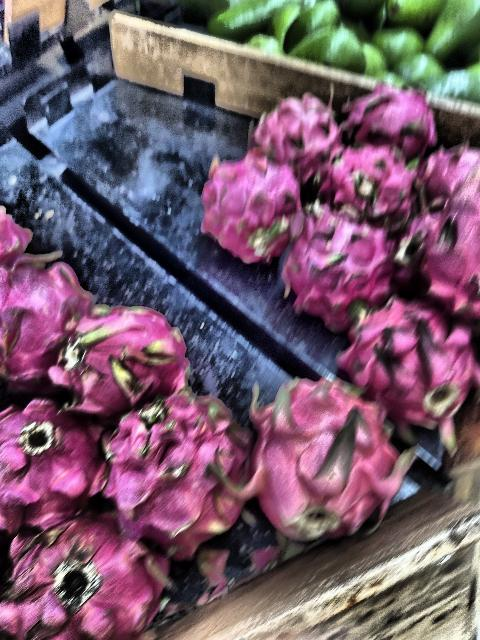buah-naga-matang: (236, 375, 418, 529), (96, 403, 262, 561), (3, 518, 170, 640), (346, 284, 474, 424), (62, 291, 199, 415), (0, 390, 112, 522), (278, 200, 386, 314), (0, 256, 82, 382), (206, 153, 300, 255), (314, 140, 418, 230), (242, 90, 340, 182), (400, 204, 480, 310), (336, 74, 438, 154), (410, 139, 480, 205)
